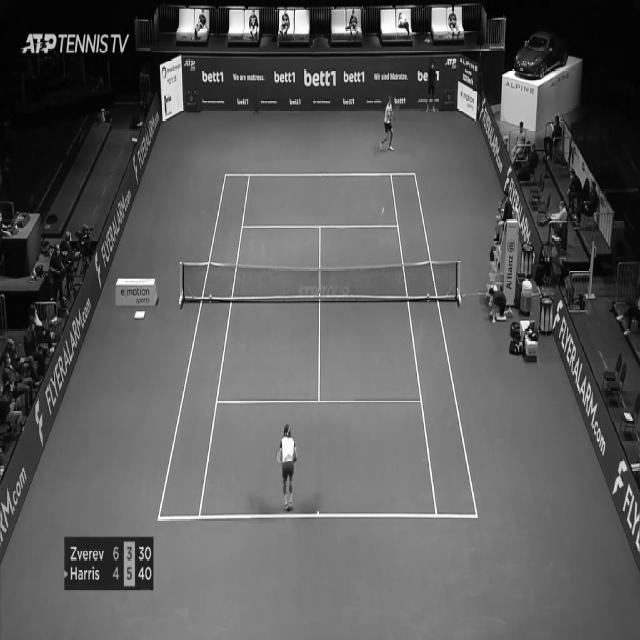tennis-court: (157, 173, 478, 520)
